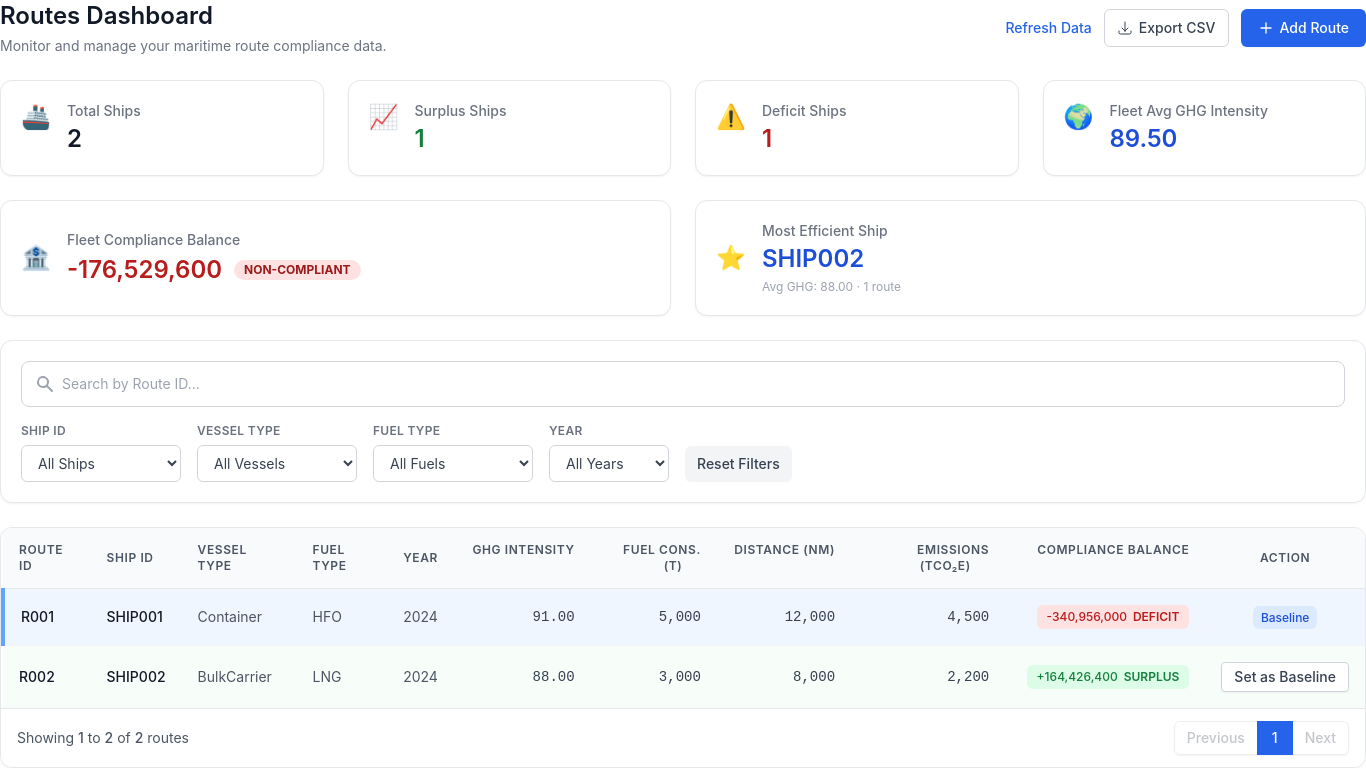
Test: RoutesPage › filters data appropriately using dropdowns
Expected: the text "R001" is shown, [3,588,91,646]
Note: Select Container Only
Select "Container" in the dropdown labelled "Vessel Type" at (277, 464), box [197,445,357,482]
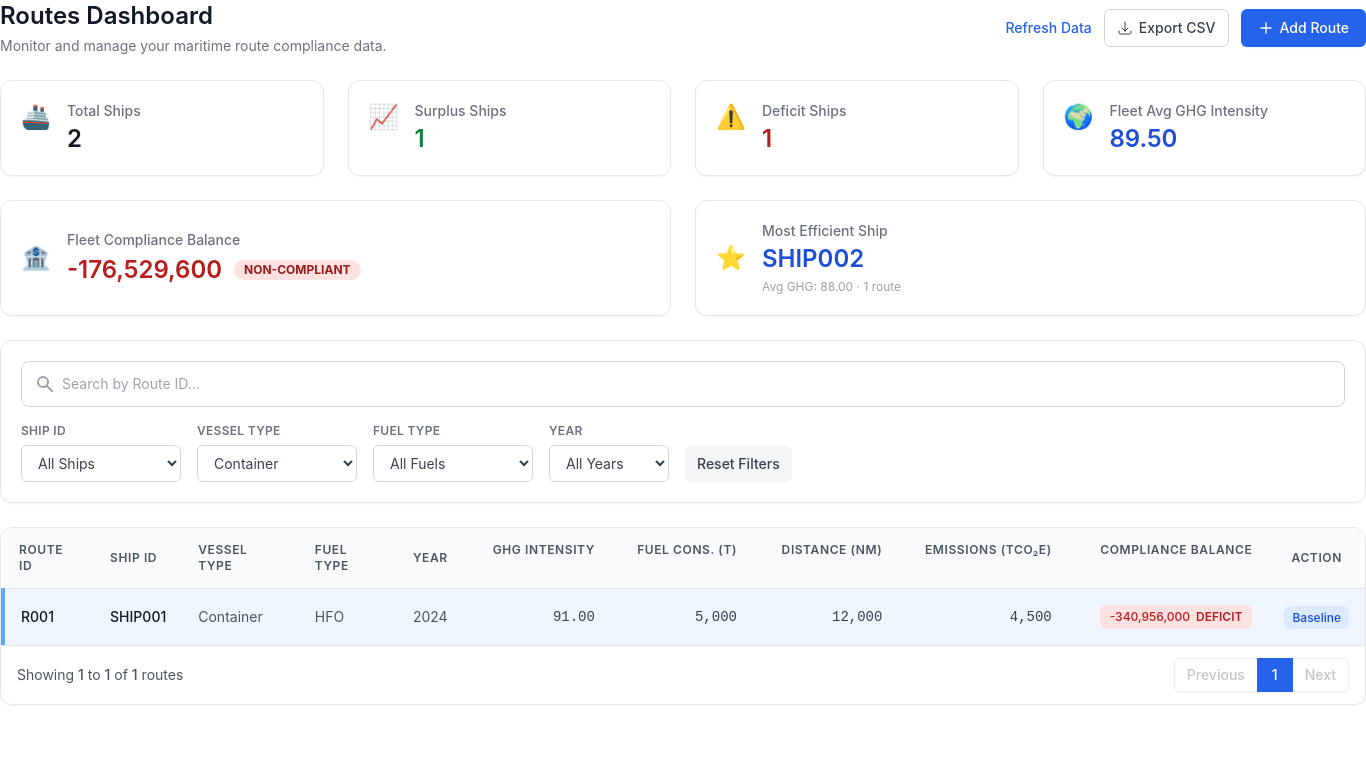
Expected: the text "R001" is shown, [3,588,94,645]
Expected: the text "R002" is gone
